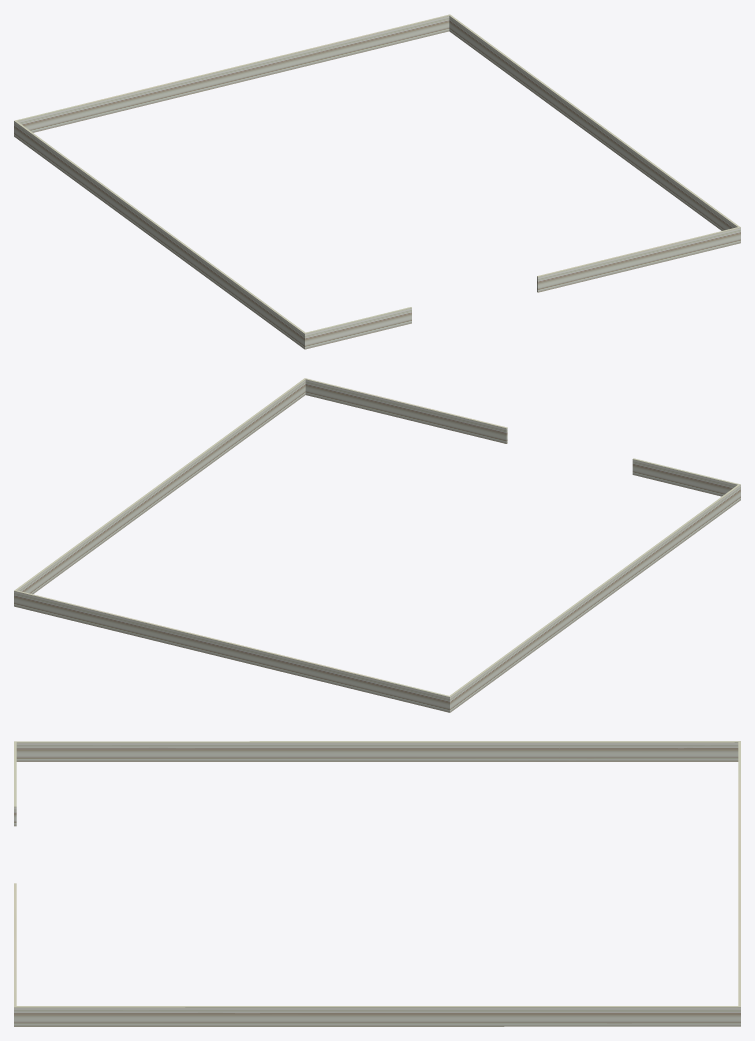
The model's file is FP429:Baseboard_024_e86ff55b.obj.
The picture shows the model from 3 angles, top to bottom: view 1: azimuth 30°, elevation 25°; view 2: azimuth 150°, elevation 25°; view 3: azimuth 270°, elevation 25°; orthographic projection. The views are drawn at different scales.
Parts seen in each view (by area): view 1: FP429:Baseboard.024_e86ff55b; view 2: FP429:Baseboard.024_e86ff55b; view 3: FP429:Baseboard.024_e86ff55b.
Boxes of the visible parts, <box> form: FP429:Baseboard.024_e86ff55b: <box>14,14,740,349</box>; FP429:Baseboard.024_e86ff55b: <box>14,378,740,712</box>; FP429:Baseboard.024_e86ff55b: <box>14,741,740,1026</box>.
Size of the model in its own units: 3.46 by 0.1214 by 4.
